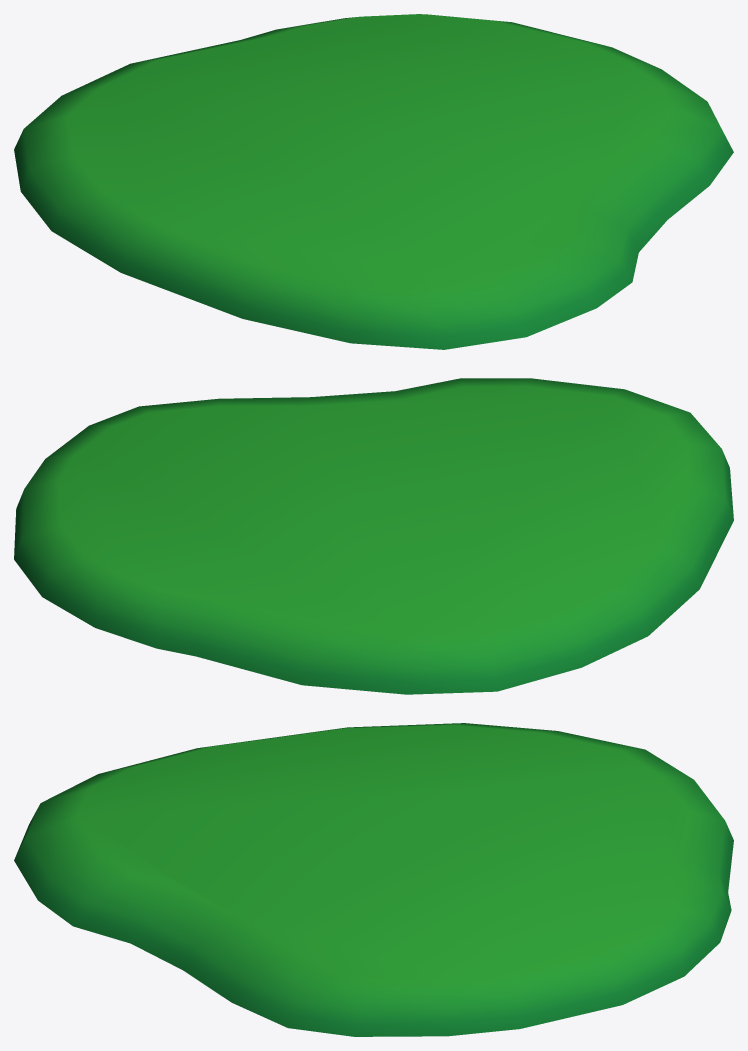
File: GrassPlane_2_B.glb
The picture shows the model from 3 angles, top to bottom: view 1: azimuth 30°, elevation 25°; view 2: azimuth 150°, elevation 25°; view 3: azimuth 270°, elevation 25°; orthographic projection. The views are drawn at different scales.
Visible parts, largest first — view 1: GrassPlane_2_B; view 2: GrassPlane_2_B; view 3: GrassPlane_2_B.
Boxes of the visible parts, bbox=[...] form: GrassPlane_2_B: bbox=[14, 14, 733, 349]; GrassPlane_2_B: bbox=[14, 378, 733, 694]; GrassPlane_2_B: bbox=[14, 723, 733, 1036].
Size of the model in its own units: 0.6776 by 0.0381 by 0.6953.
1 material, 1 textured.
